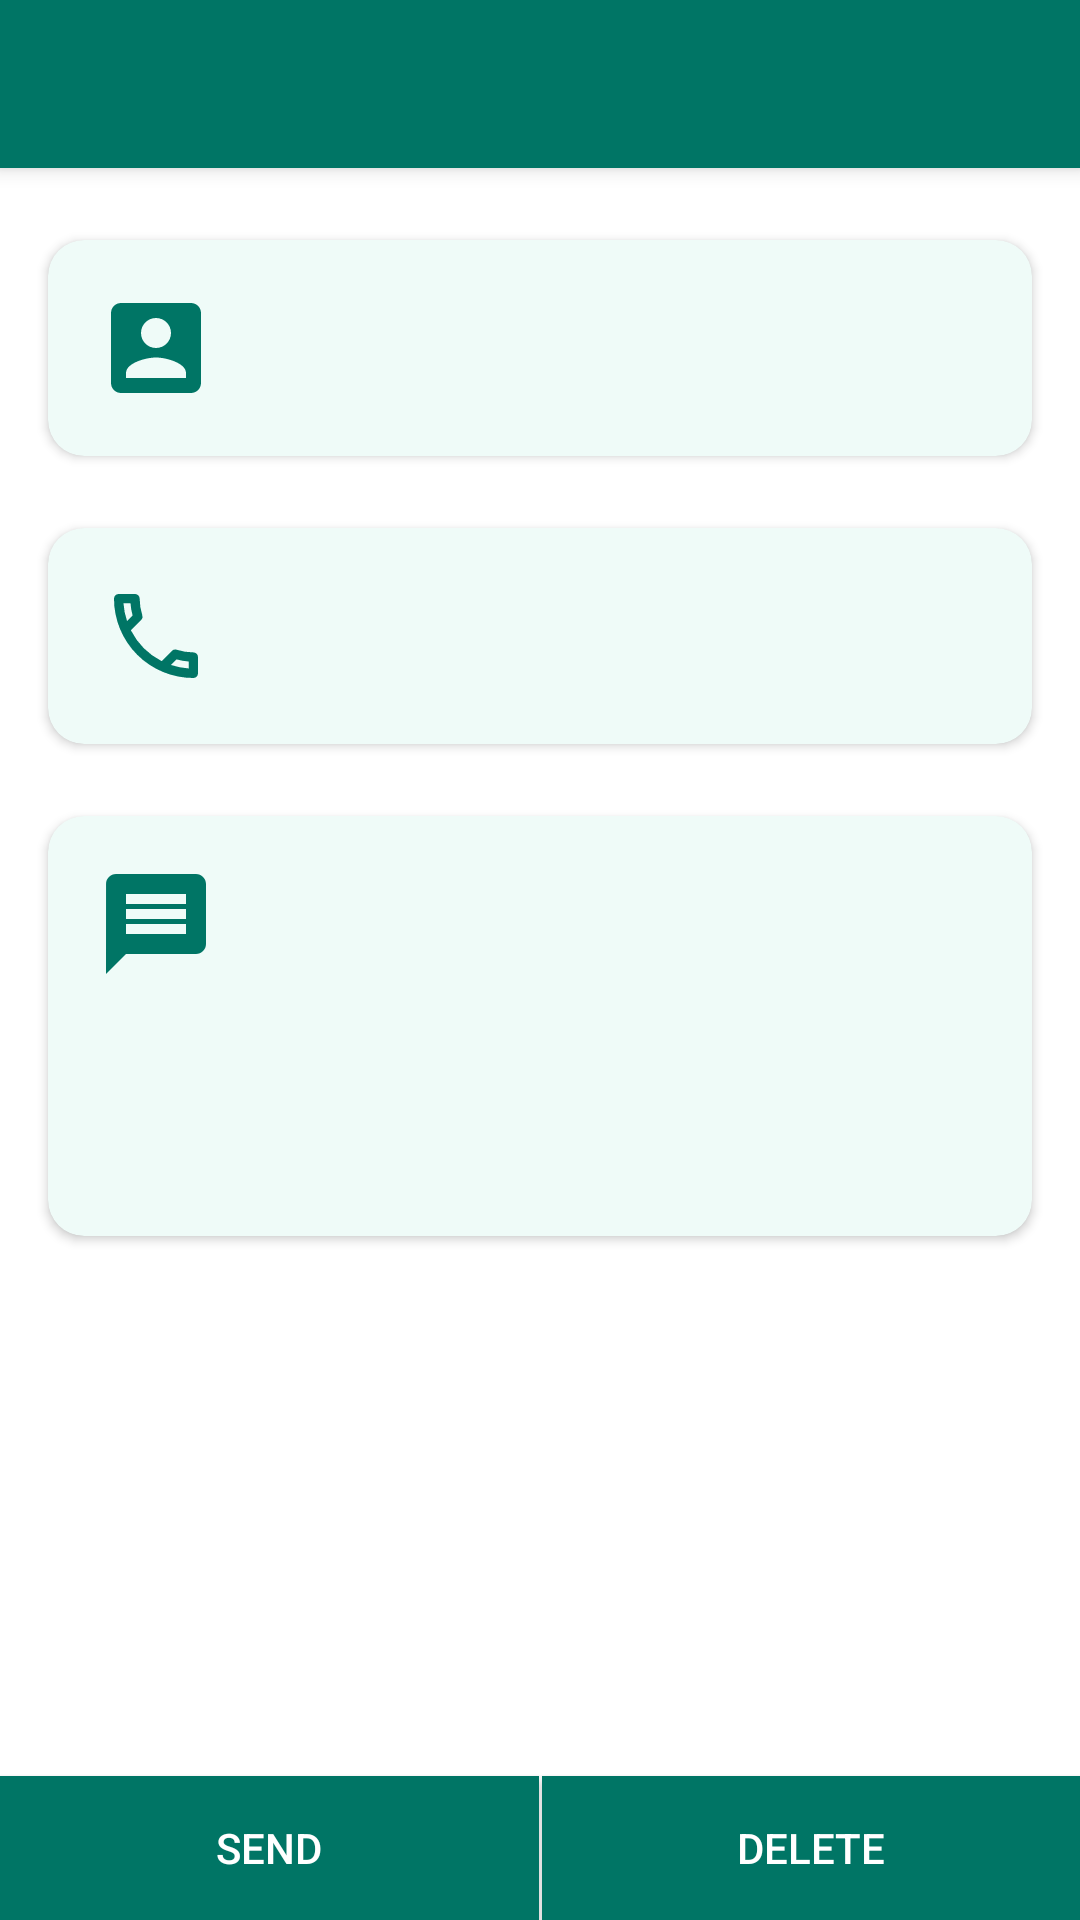

Where icons sit on this 1080*1920 app screen, as (x1, y1, x2, y2):
messages detail: (106, 874, 206, 974)
phone: (114, 594, 198, 678)
user detail: (111, 303, 201, 393)
